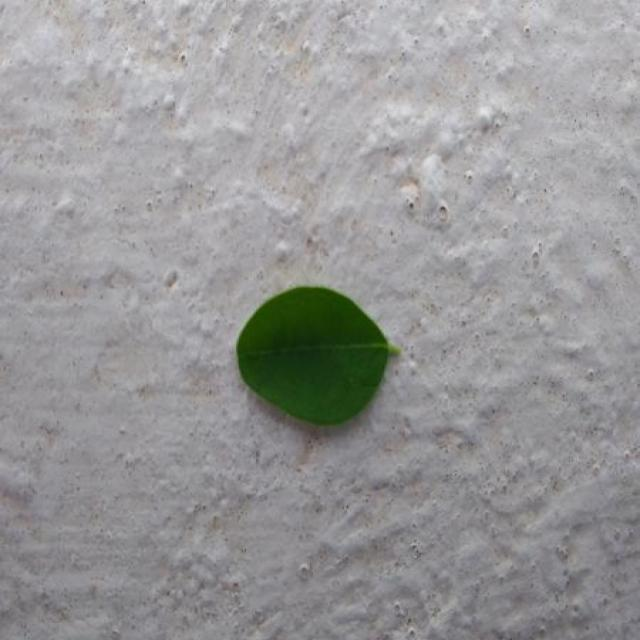drumstick: (237, 286, 400, 425)
